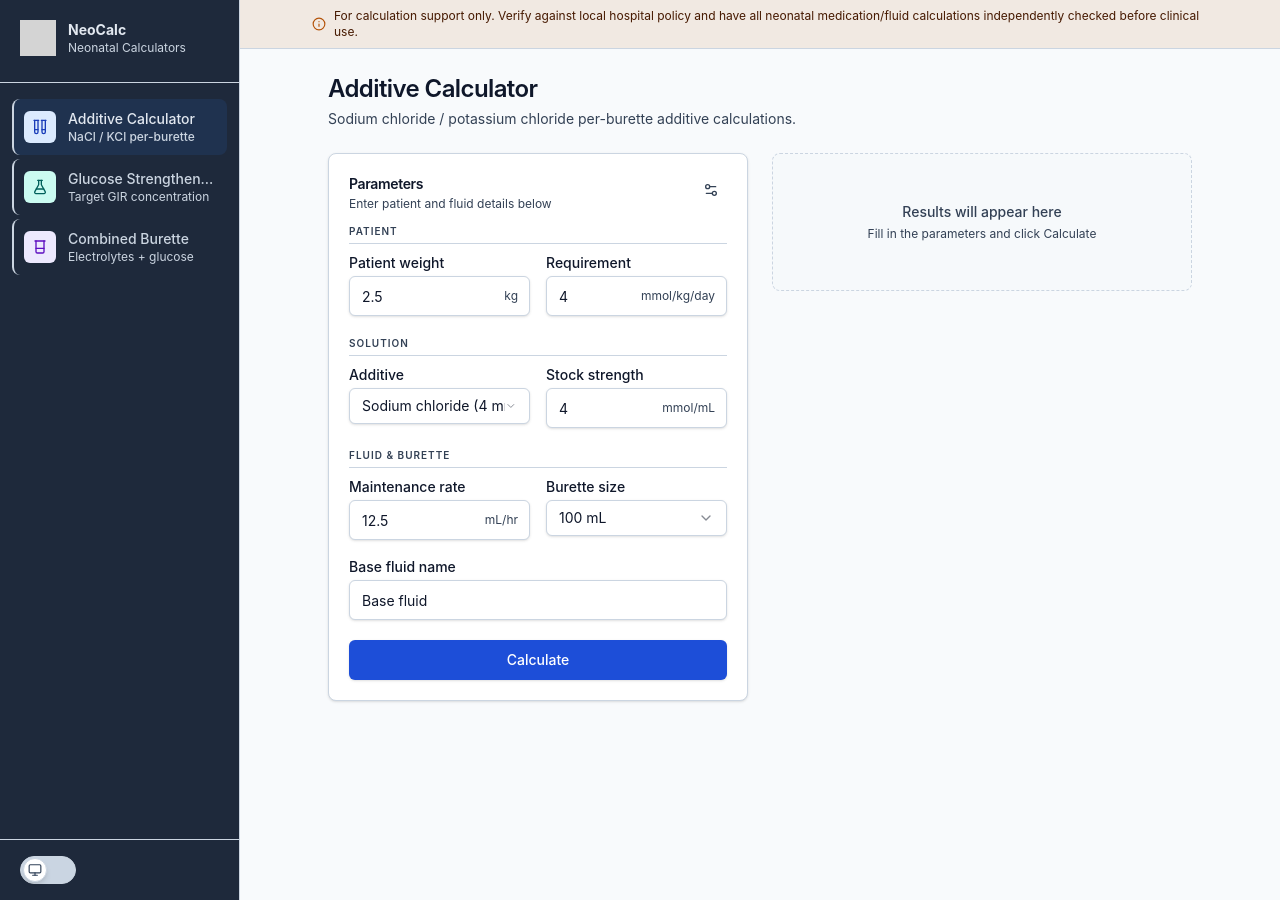
Test: app routing + safety banner › can run a default additive calculation and shows a result
What coordinates should you click on to do the following:
click the button "Calculate"
I would click on:
 (538, 660)
Its box is [349,640,727,680].
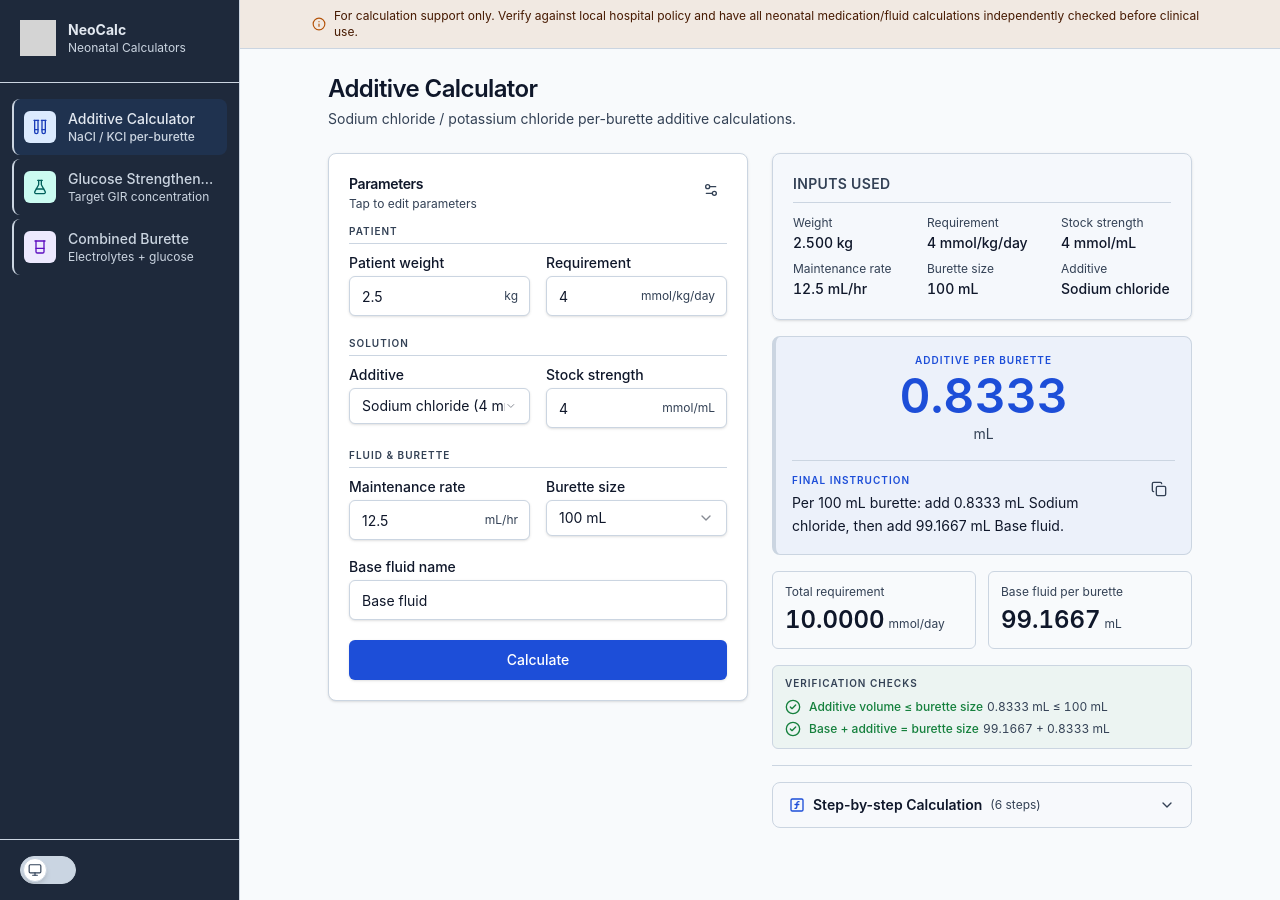
Check: the text "Final Instruction" is shown, box [792,474,910,486]
Check: the text "Per 100 mL burette" is shown, box [792,494,1082,534]
